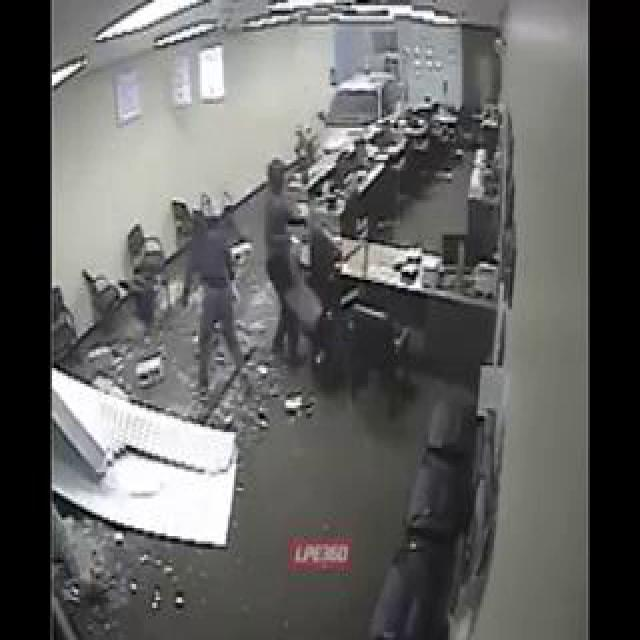burglary: (204, 0, 446, 581)
